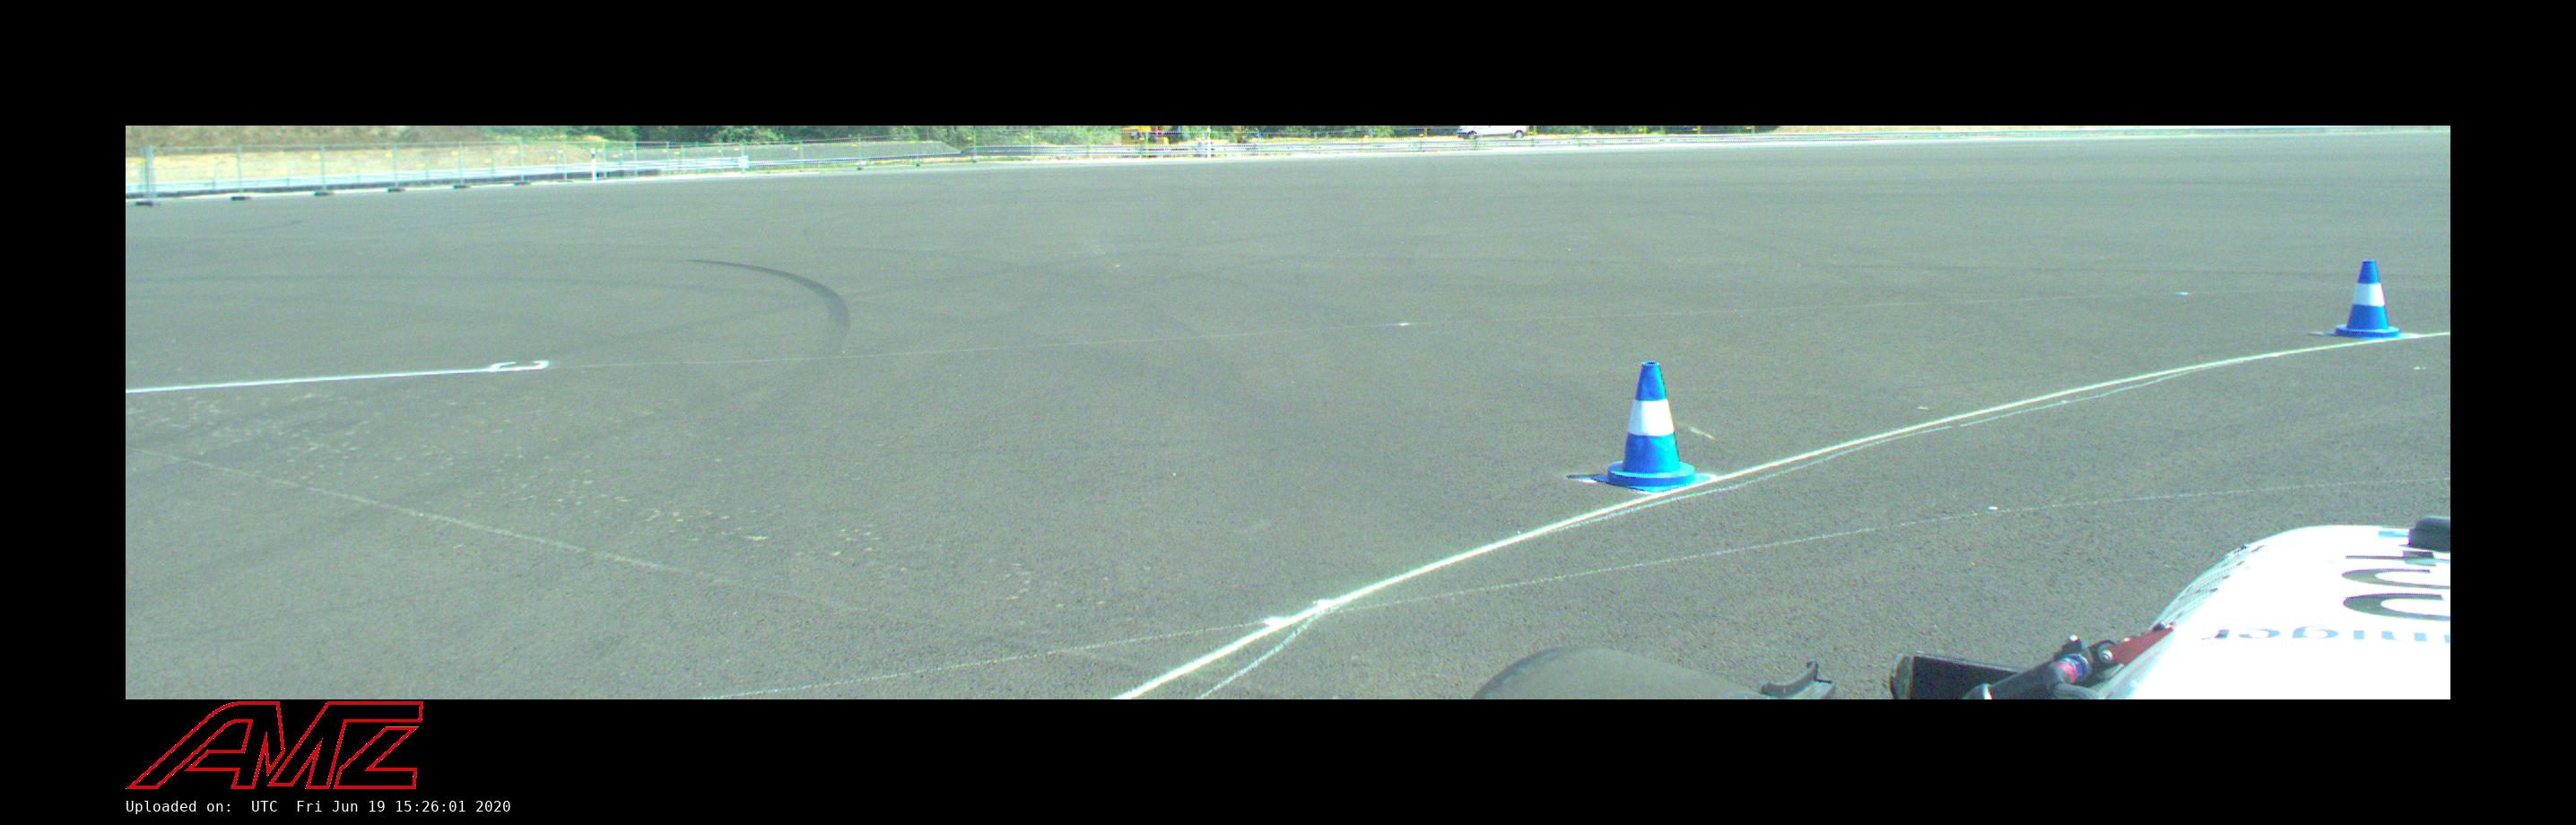blue_cone: (1594, 362, 1709, 493), (2326, 260, 2408, 337)
